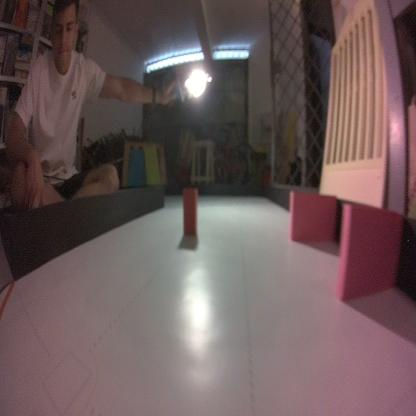magenta: (335, 199, 402, 311), (288, 188, 338, 249)
red: (182, 185, 198, 235)
